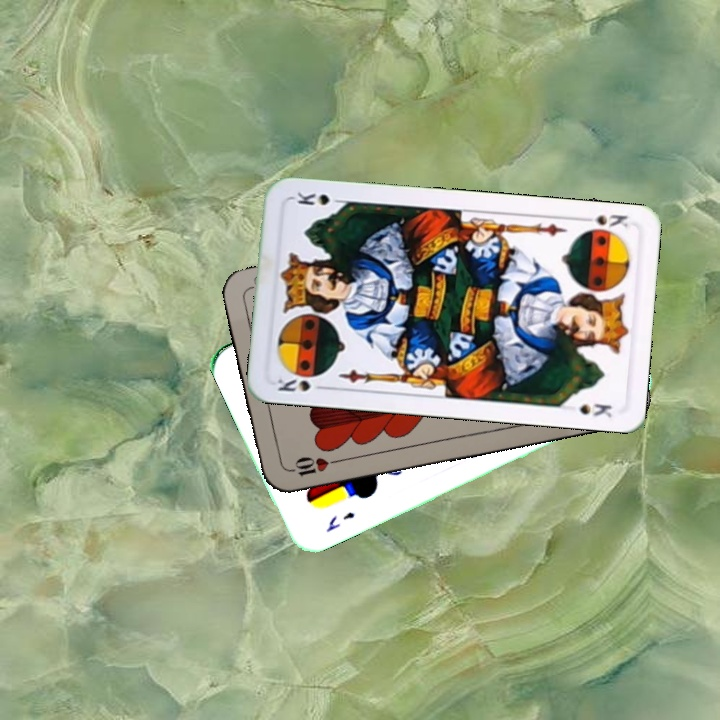EK: (321, 507, 358, 535)
H10: (283, 453, 342, 479)
SK: (273, 374, 330, 394), (576, 210, 631, 230)
